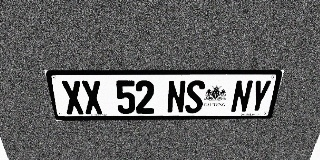2: (135, 80, 154, 114)
5: (115, 80, 136, 114)
N: (230, 80, 254, 113), (167, 80, 186, 113)
S: (185, 80, 205, 113)
X: (60, 81, 85, 114), (81, 80, 104, 114)
Y: (247, 80, 272, 113)
